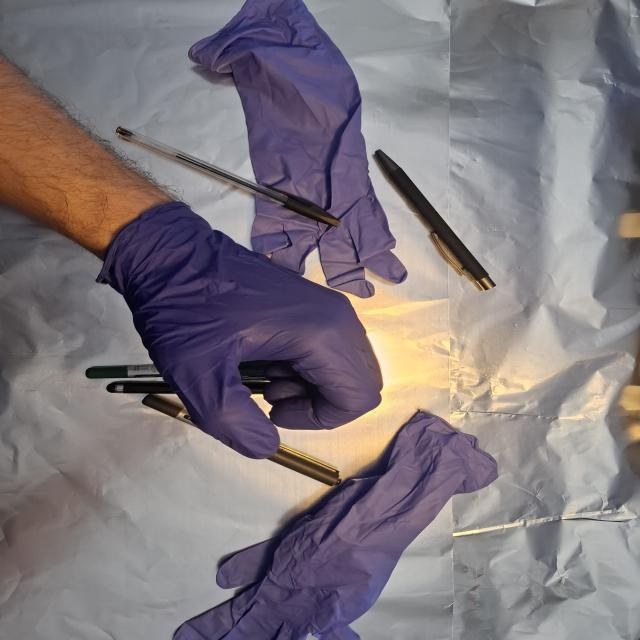glove_on: (100, 202, 389, 462)
